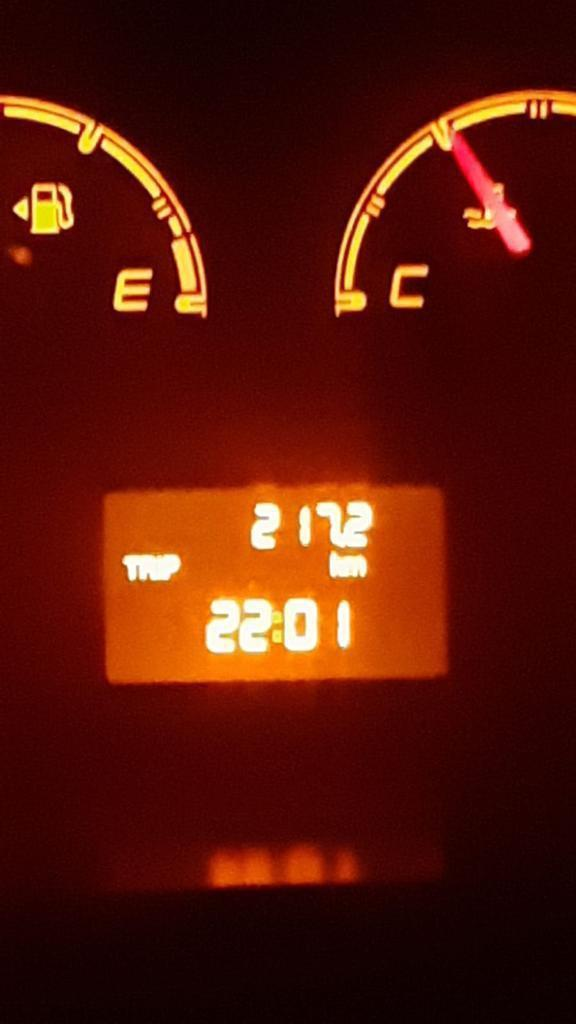,: (338, 533, 345, 548)
0: (282, 595, 319, 653)
1: (332, 595, 355, 652), (294, 501, 312, 550)
2: (203, 595, 239, 655), (239, 596, 272, 655), (247, 498, 281, 552), (343, 497, 375, 548)
7: (314, 500, 339, 548)
X: (343, 552, 367, 579), (164, 551, 182, 582), (121, 552, 139, 582), (327, 548, 344, 579), (139, 553, 157, 582), (272, 607, 282, 647), (157, 553, 163, 581)
odometer: (95, 476, 457, 691)
